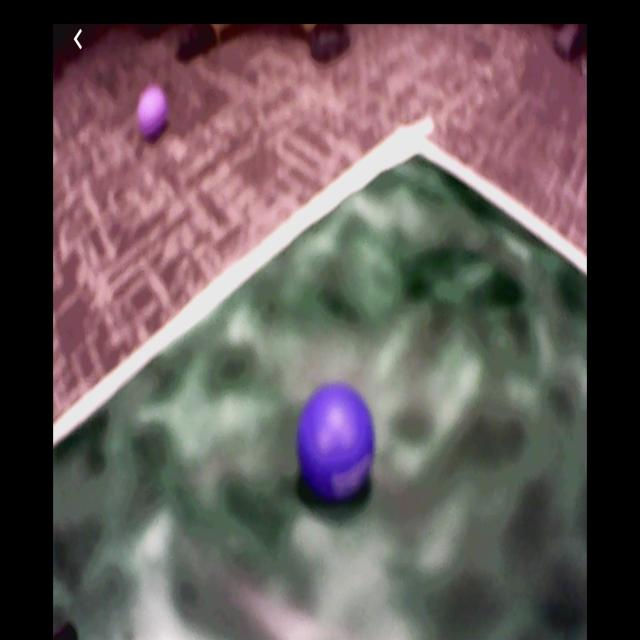ball: (297, 384, 377, 501), (136, 84, 168, 140)
